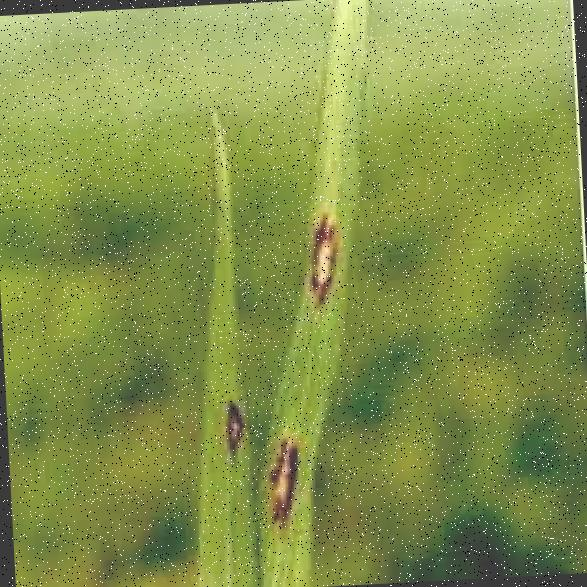Leaf_smut: (244, 418, 330, 514), (294, 196, 334, 298), (209, 376, 253, 452)
